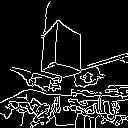cube: (35, 21, 93, 79)
